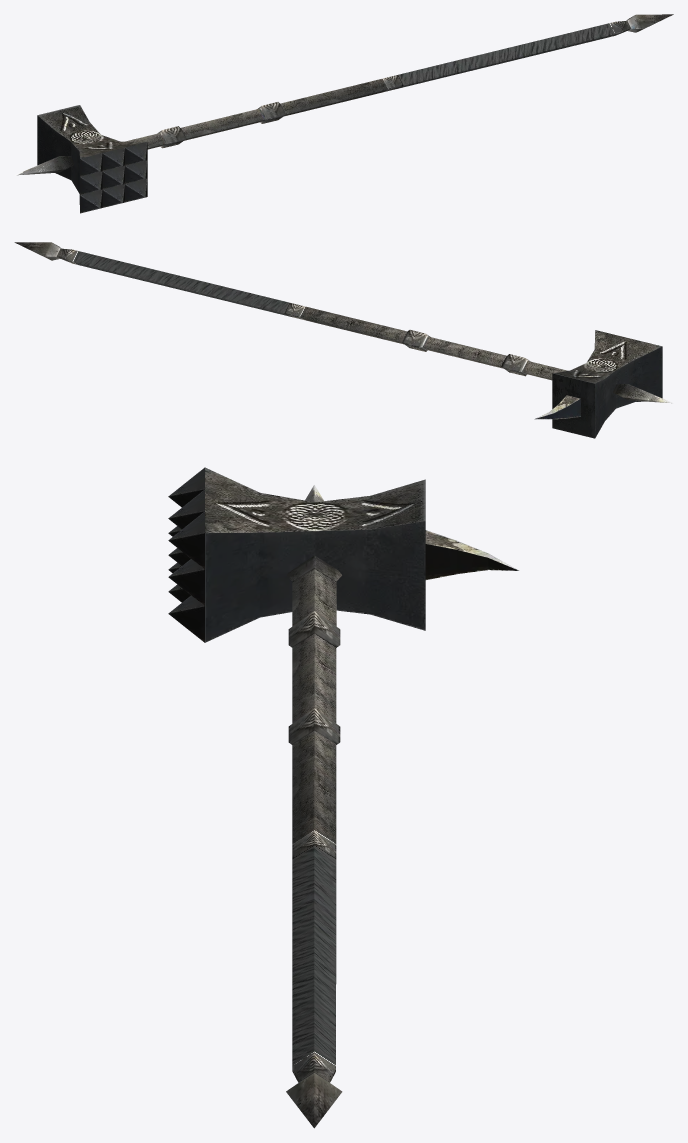
File: KM_ITMW_2H_HAMMER_06.glb
3 views of the same model, one above another, from view 1: azimuth 30°, elevation 25°; view 2: azimuth 150°, elevation 25°; view 3: azimuth 270°, elevation 25° (orthographic). The views are drawn at different scales.
Visible parts, largest first — view 1: KM_ITMW_2H_HAMMER_06; view 2: KM_ITMW_2H_HAMMER_06; view 3: KM_ITMW_2H_HAMMER_06.
Part boxes in pixels (<box>): KM_ITMW_2H_HAMMER_06: <box>15,14,673,213</box>; KM_ITMW_2H_HAMMER_06: <box>14,242,673,438</box>; KM_ITMW_2H_HAMMER_06: <box>168,467,518,1128</box>.
Size of the model in its own units: 1.55 by 0.1229 by 0.3569.
Materials: 1 (1 with a texture image).
